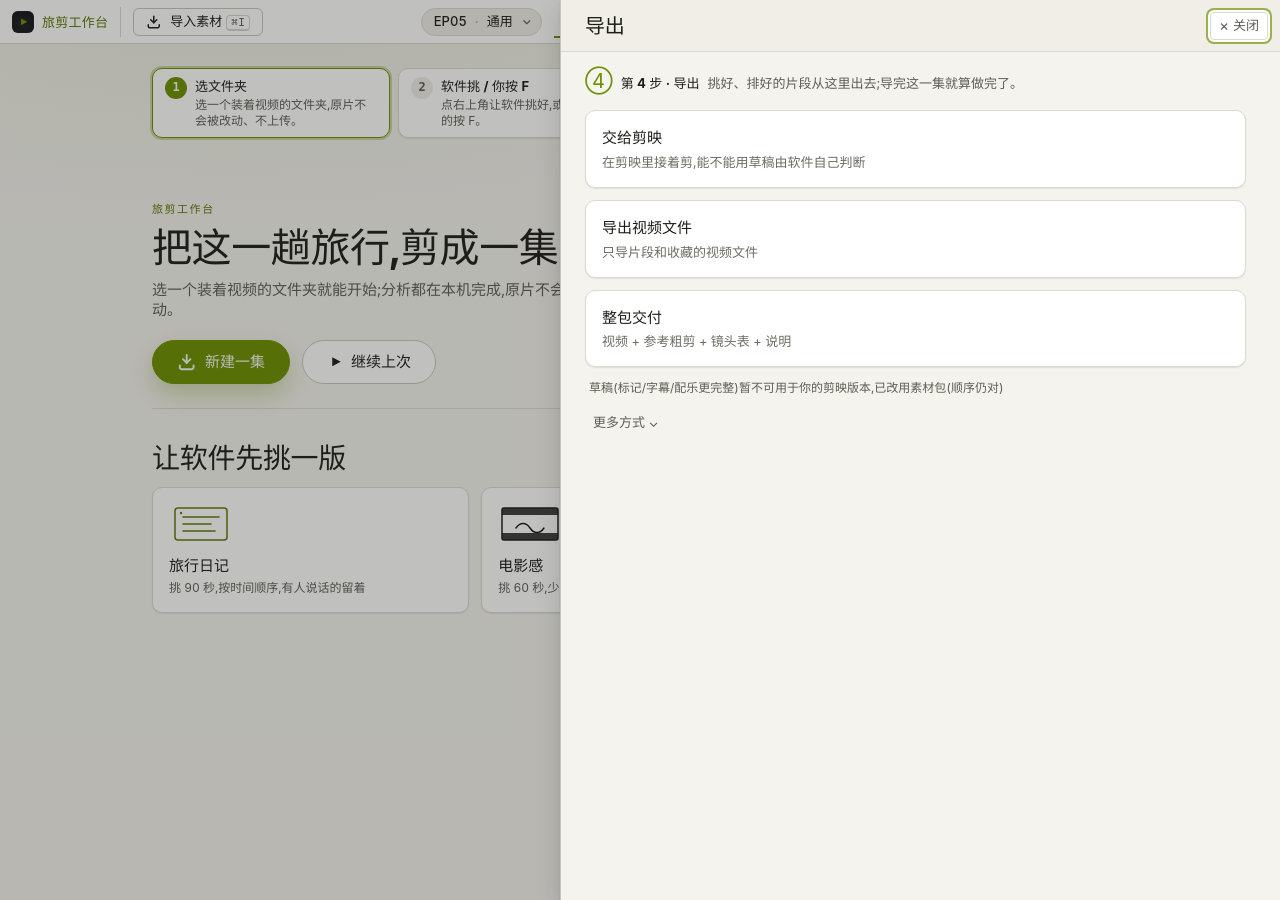
it: Z-07 / Z-08 交付抽屉的原片缺失通知 › 导出片段(快速导出)同样给通知并禁用主按钮
The image size is (1280, 900).
// R19 U-06/P-04:首屏三卡,「导出视频文件」直接落在快速导出模式。
Click the button "导出视频文件 只导片段和收藏的视频文件".
click(647, 227)  # box top-left (585, 200), bottom-right (1246, 278)
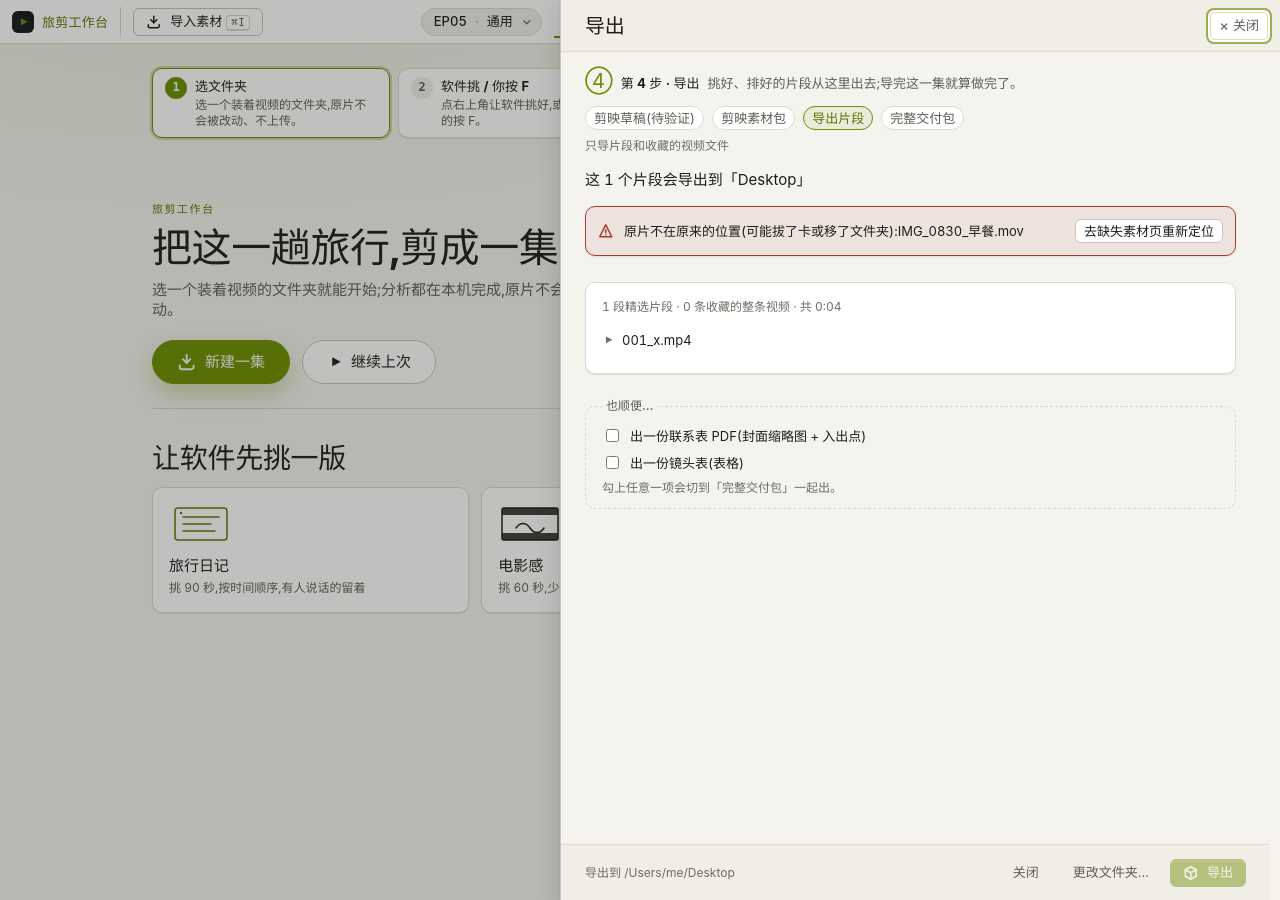
Now the message named "原片缺失" is shown, box top-left (585, 206), bottom-right (1236, 256)
Now the button with aria-label "导出到上次文件夹" is disabled, box top-left (1170, 858), bottom-right (1246, 886)
